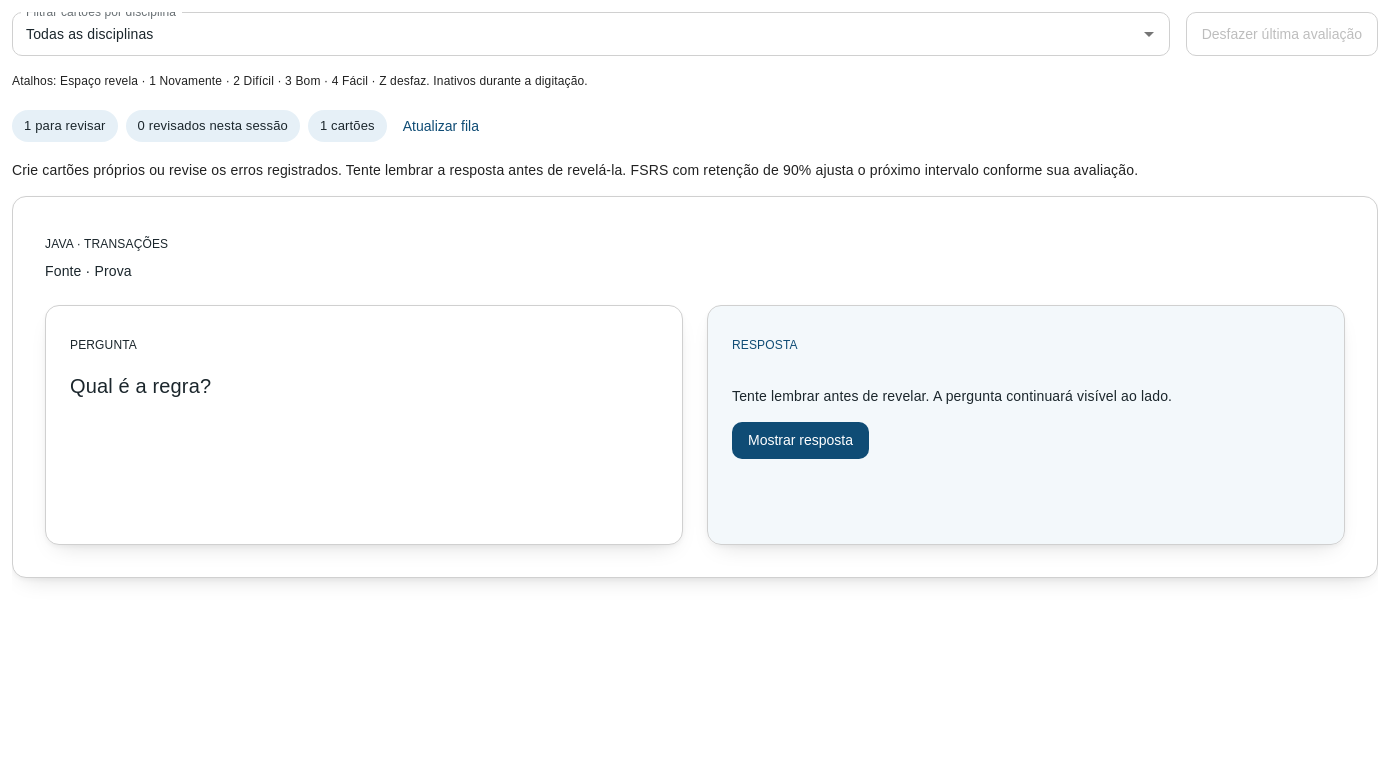
Test: reveals flashcards before rating and sends the persisted revision
This screenshot has width=1390, height=780.
Expected: the heading "Qual é a regra?" is shown, [70,375,211,397]
Expected: the text "A transação é atômica." is not shown
Click the button "Mostrar resposta" at (800,441), box [732,422,869,459]
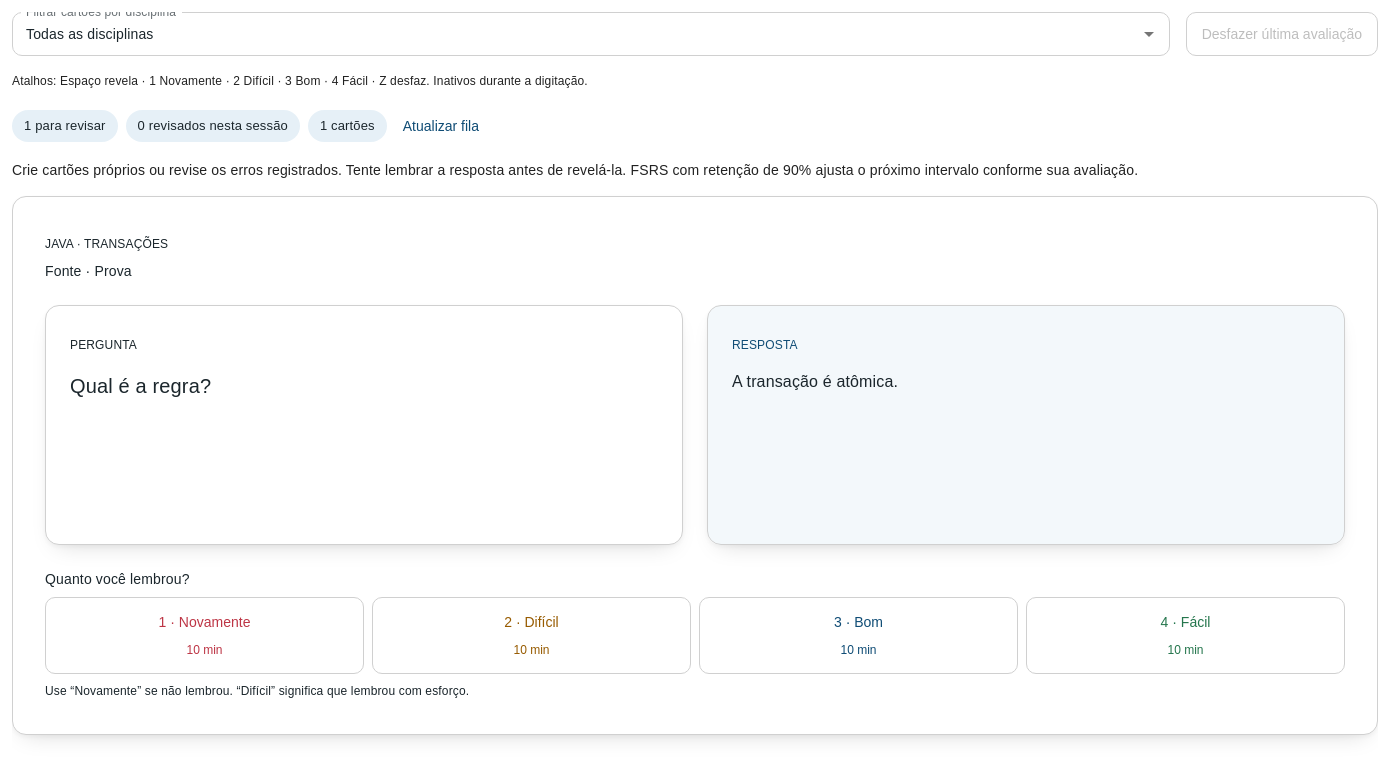
Expected: the heading "Qual é a regra?" is shown, [70,375,211,397]
Expected: the text "A transação é atômica." is shown, [732,373,898,390]
Click the button "3 · Bom 10 min" at (858,650), box [699,597,1018,674]
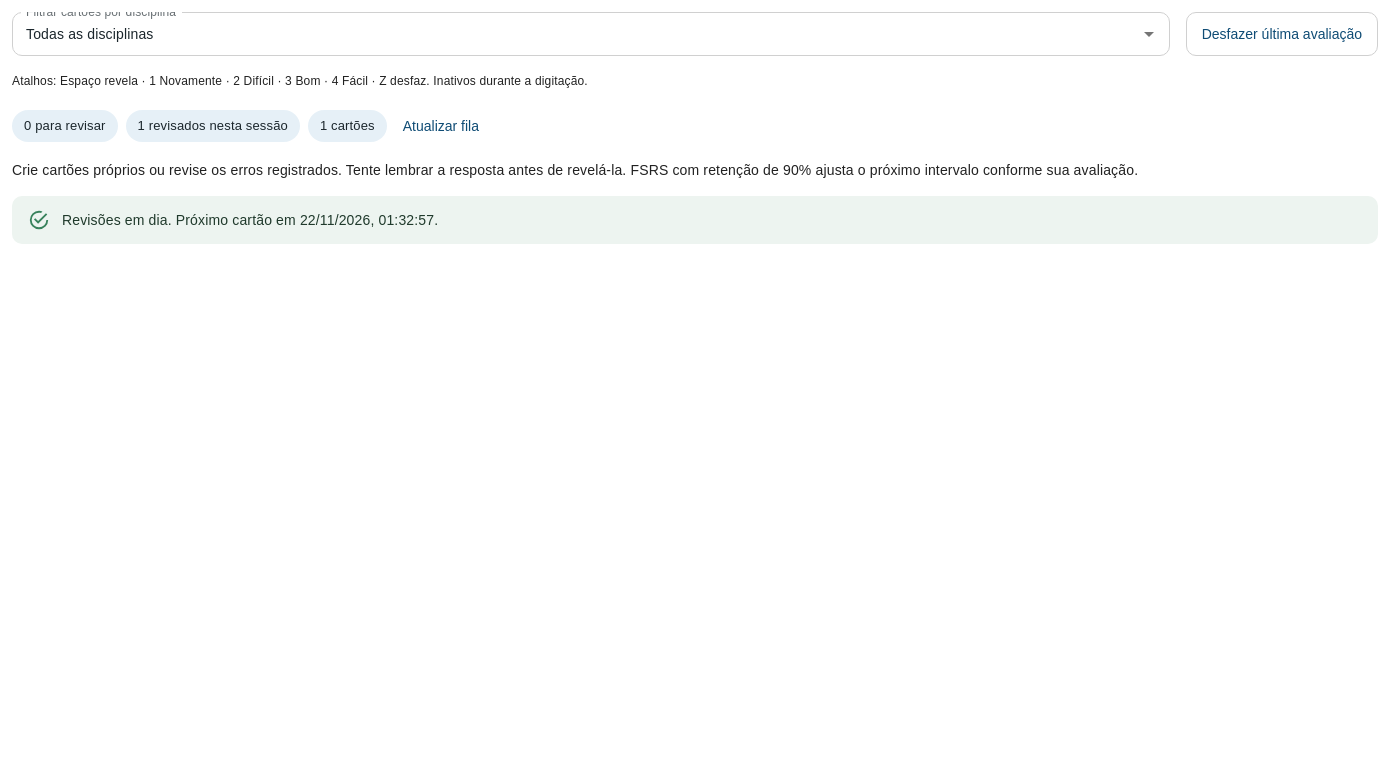
Expected: the text "Revisões em dia. Próximo cartão em 22/11/2026, 01:32:57." is shown, [62,212,438,228]
